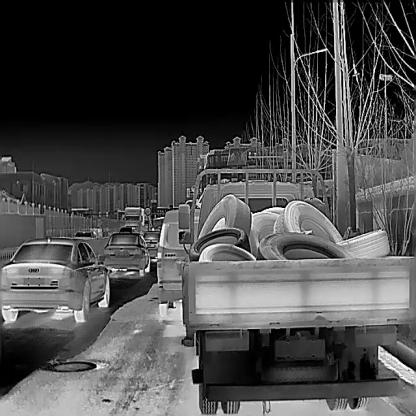car: (0, 232, 110, 322), (155, 206, 203, 317), (99, 233, 151, 276), (142, 229, 163, 259), (72, 229, 100, 240), (119, 226, 133, 232)
truck: (175, 163, 415, 415), (119, 206, 146, 230)
